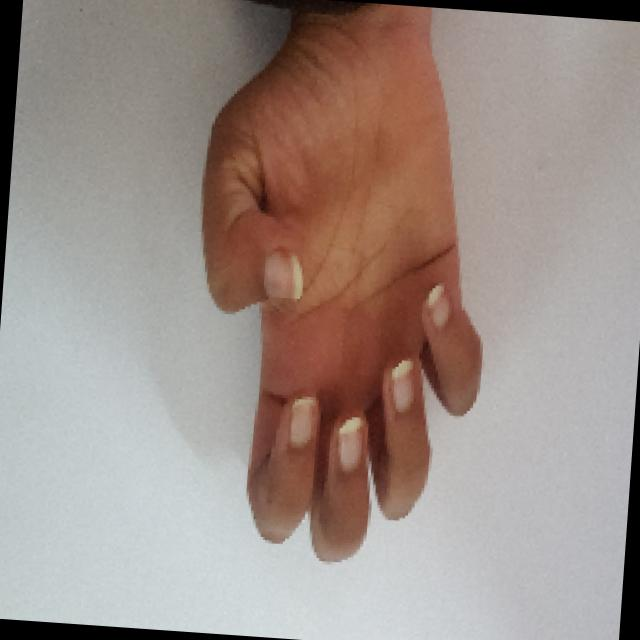Nail: (263, 250, 304, 300), (335, 415, 362, 471), (289, 394, 316, 446), (388, 358, 413, 412), (424, 283, 449, 328)
